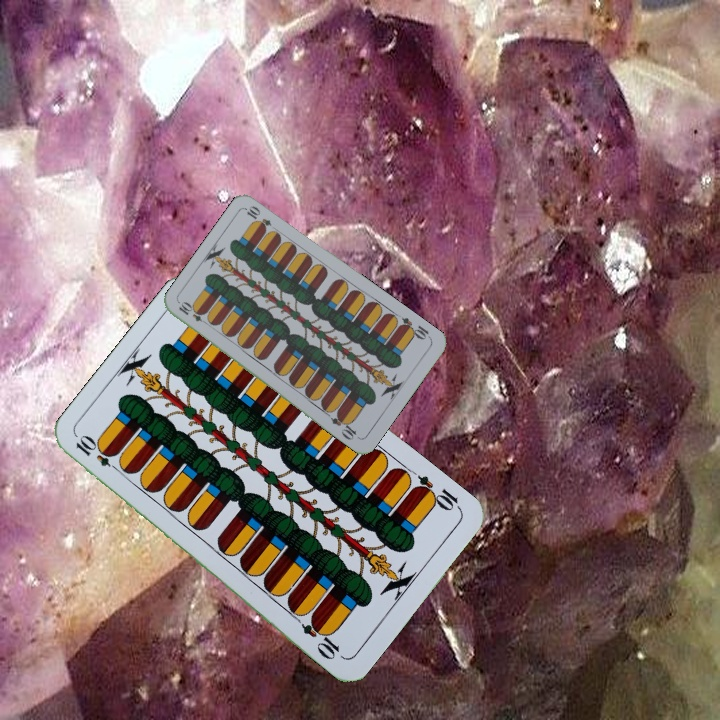E10: (71, 432, 125, 476), (409, 471, 464, 514), (395, 313, 434, 343), (175, 299, 212, 328)
